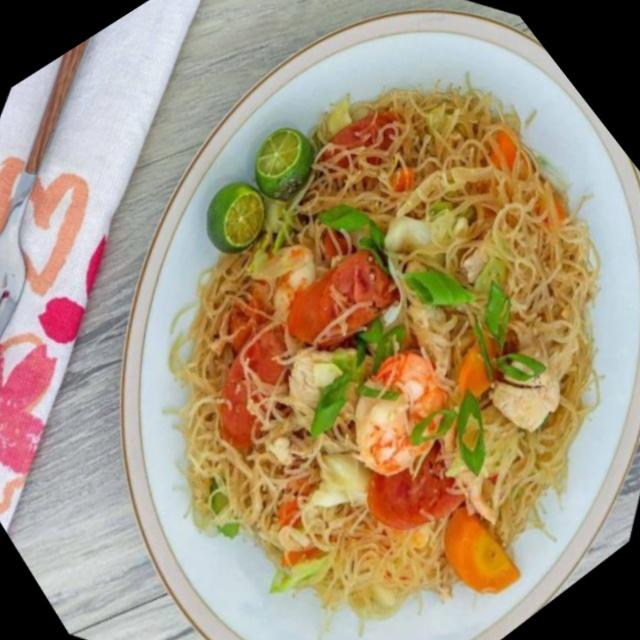pancit bihon: (199, 75, 590, 607)
